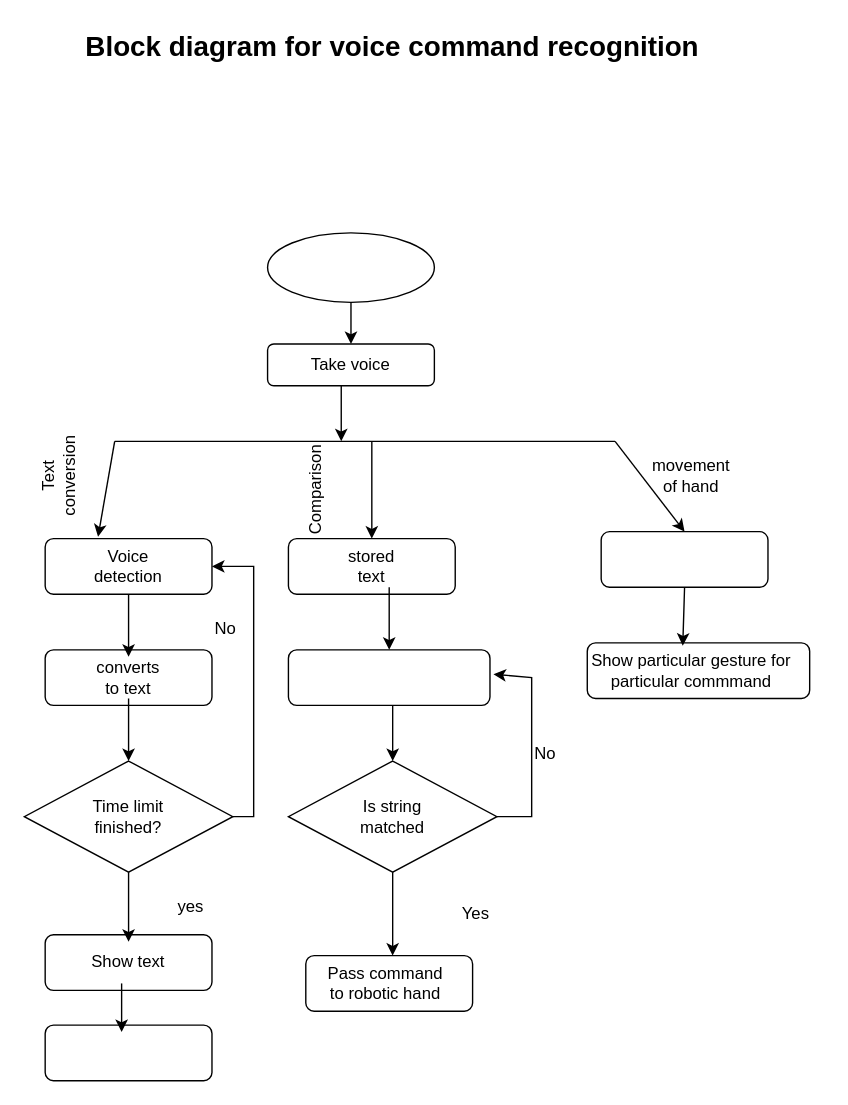
This 848x1105 diagram has some shape labels left out. Here are the shapes that lost their labels. From the top down, the centre of each, then its label:
the point at 350,266: Start
the point at 684,558: Command
the point at 388,676: Comparing text with given command
the point at 128,1052: Store text
